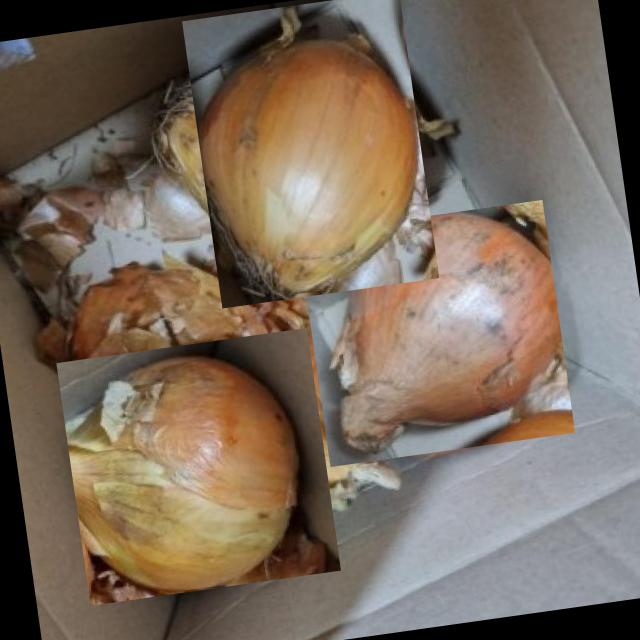Onion: (166, 5, 454, 294), (56, 328, 342, 606), (297, 200, 575, 468)
